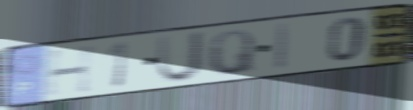0: (325, 15, 367, 64)
1: (104, 39, 130, 92)
H: (42, 42, 101, 99)
I: (272, 20, 295, 72)
Q: (206, 28, 258, 78)
U: (154, 29, 209, 85)
